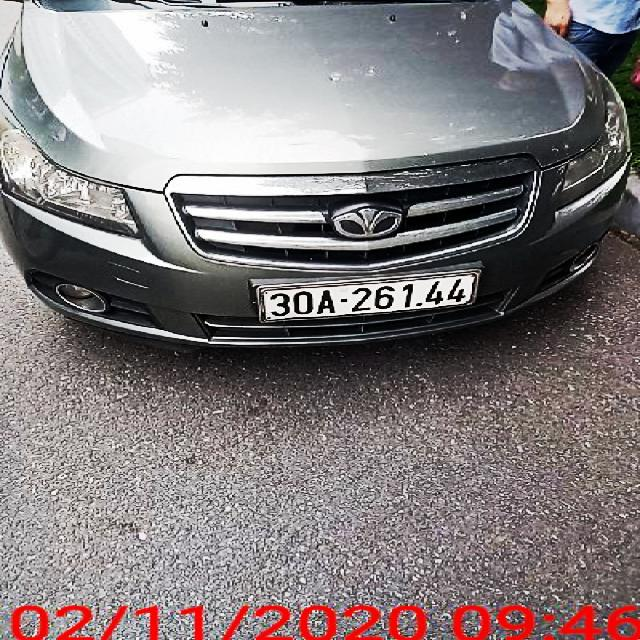license_plate: (262, 274, 478, 322)
